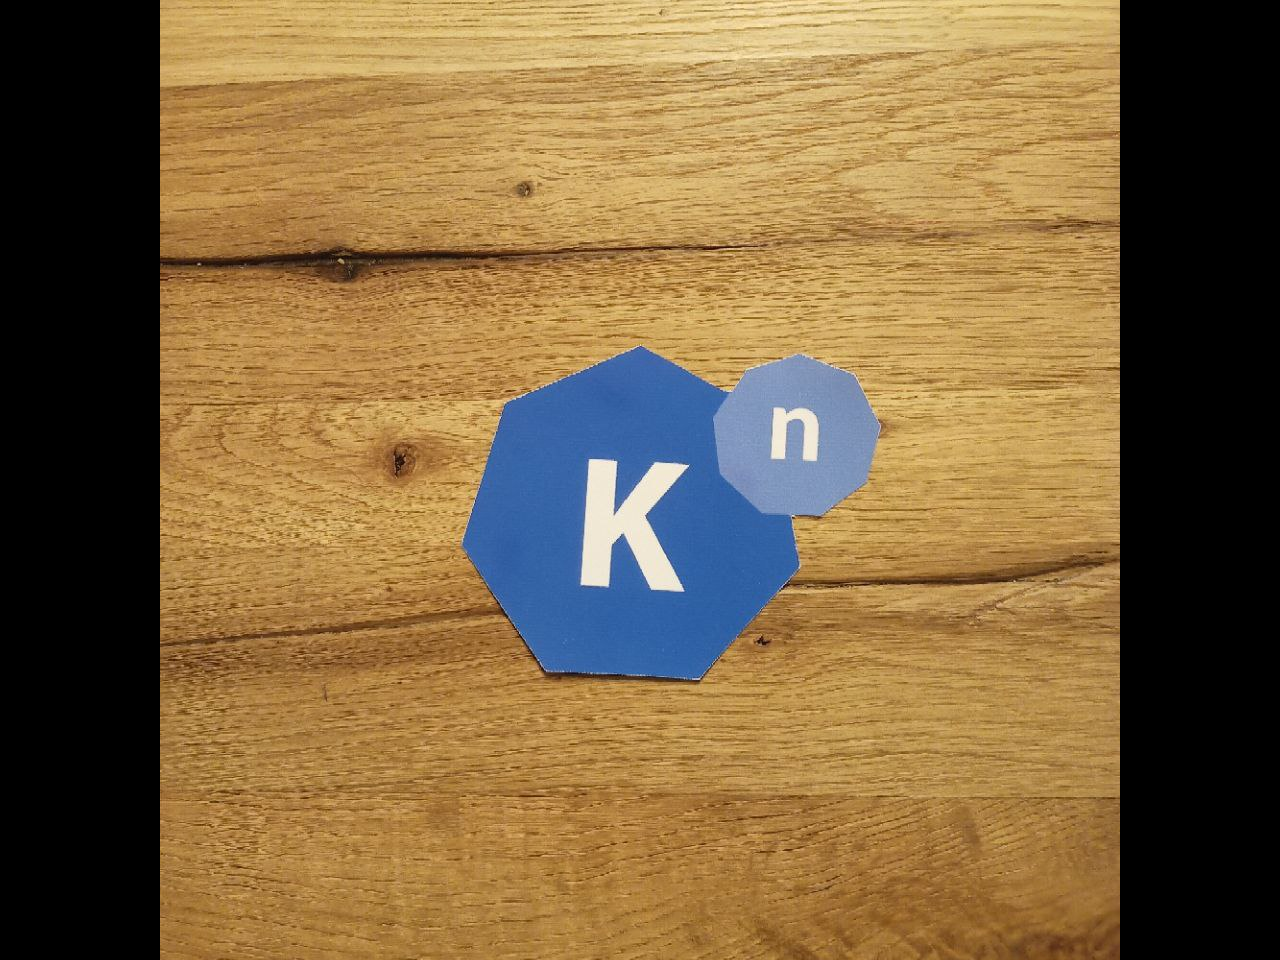knative: (459, 347, 882, 683)
